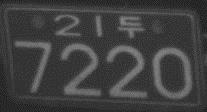0: (151, 46, 193, 100)
1: (89, 14, 111, 38)
2: (60, 41, 102, 98), (105, 44, 148, 99), (54, 13, 80, 37)
7: (13, 39, 53, 93)
두: (117, 14, 145, 39)
